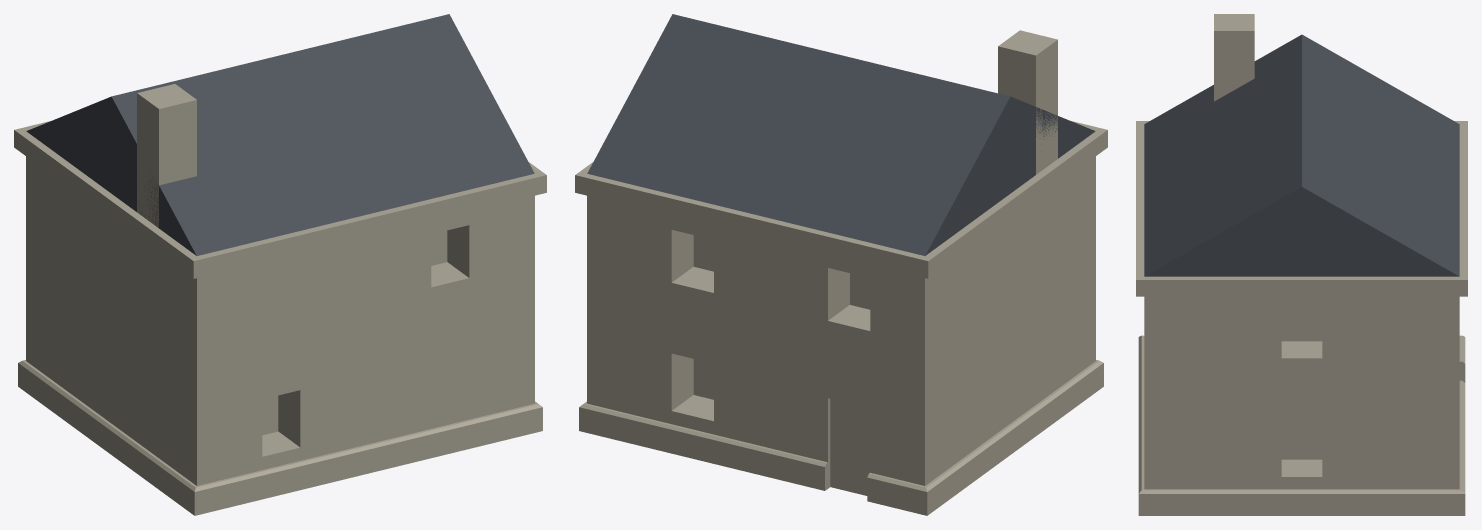
3 views of the same model, side by side, from view 1: azimuth 30°, elevation 25°; view 2: azimuth 150°, elevation 25°; view 3: azimuth 270°, elevation 25° (orthographic). The views are drawn at different scales.
Parts seen in each view (by area): view 1: body_stone, roof_slate, trim_stone, roof_stone; view 2: body_stone, roof_slate, trim_stone, roof_stone; view 3: body_stone, roof_slate, trim_stone, roof_stone.
Part boxes in pixels (x1=…): body_stone: x1=26, y1=97, x2=534, y2=485; roof_slate: x1=26, y1=14, x2=534, y2=255; trim_stone: x1=14, y1=121, x2=546, y2=515; roof_stone: x1=137, y1=84, x2=196, y2=113; body_stone: x1=587, y1=44, x2=1095, y2=495; roof_slate: x1=587, y1=14, x2=1095, y2=255; trim_stone: x1=575, y1=121, x2=1107, y2=515; roof_stone: x1=998, y1=30, x2=1057, y2=59; body_stone: x1=1144, y1=35, x2=1459, y2=489; roof_slate: x1=1144, y1=34, x2=1459, y2=276; trim_stone: x1=1136, y1=121, x2=1467, y2=515; roof_stone: x1=1214, y1=14, x2=1254, y2=35.
Size of what is drawn, in the model's own units: 8.36 by 8.5 by 7.36.
